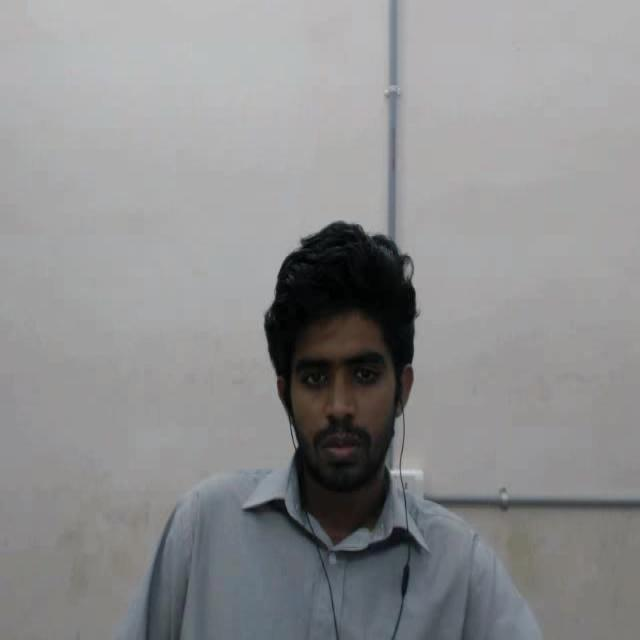Engaged: (226, 197, 440, 502)
